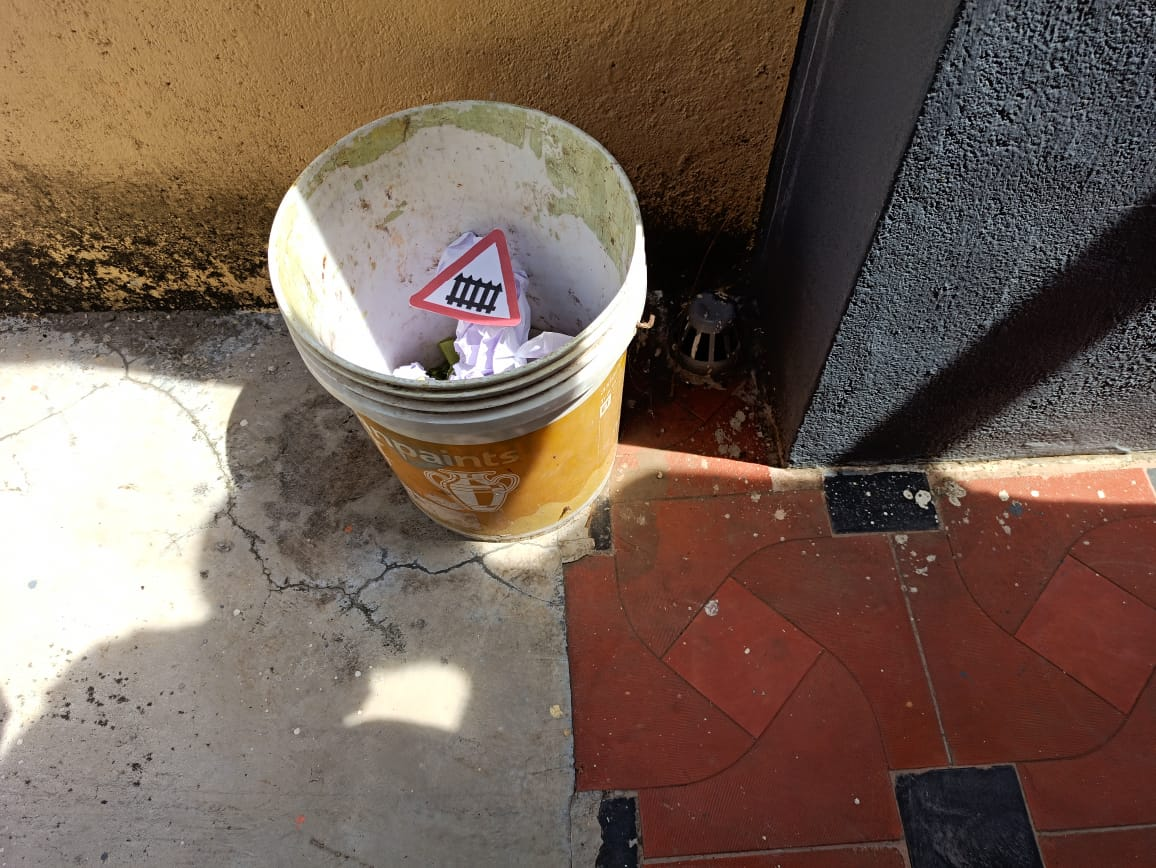GUARDED LEVEL CROSSING: (411, 235, 542, 331)
